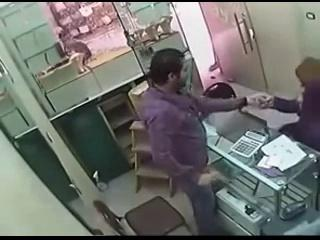Normal: (140, 48, 272, 234), (230, 128, 268, 158), (280, 202, 308, 220)
